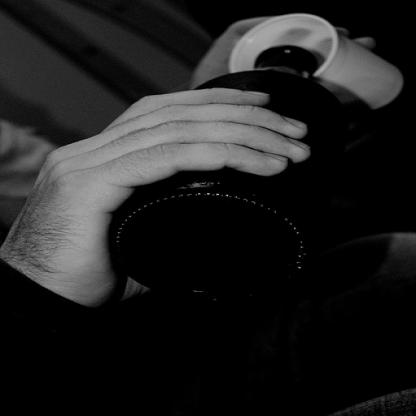bottle: (105, 43, 338, 300)
